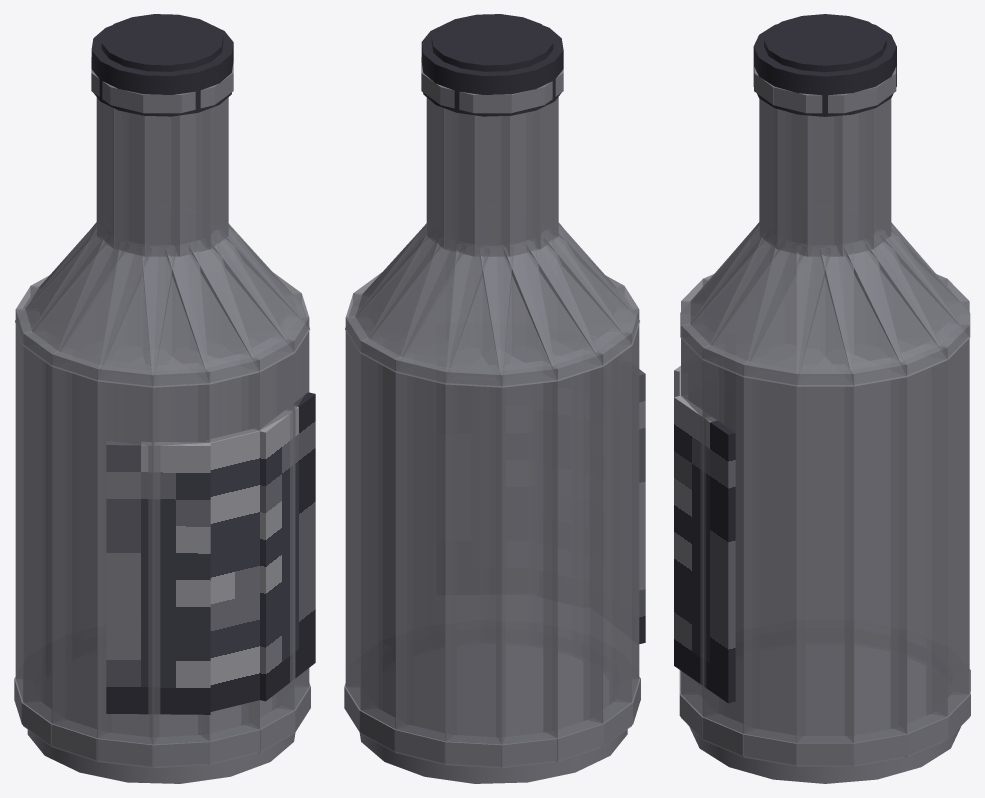
Rendered from CMU3DDrinkBottleWhiskeyDrinksExtraCloud.glb.
3 views of the same model, side by side, from view 1: azimuth 30°, elevation 25°; view 2: azimuth 150°, elevation 25°; view 3: azimuth 270°, elevation 25° (orthographic).
Parts seen in each view (by area): view 1: source front label tangent 0, continuous hollow body wall 09, continuous hollow body wall 08, source front label tangent 2, source front label tangent 1, continuous hollow body wall 07, continuous hollow body wall 10, continuous hollow body wall 11, thick bottle heel, smooth tapered shoulder sector 12, smooth tapered shoulder sector 10, smooth tapered shoulder sector 9 (+31 smaller); view 2: continuous hollow body wall 06, continuous hollow body wall 04, continuous hollow body wall 05, continuous hollow body wall 07, continuous hollow body wall 03, continuous hollow body wall 08, thick bottle heel, continuous hollow body wall 02, continuous hollow body wall 09, smooth tapered shoulder sector 4, smooth tapered shoulder sector 6, smooth tapered shoulder sector 7 (+29 smaller); view 3: continuous hollow body wall 01, continuous hollow body wall 15, continuous hollow body wall 00, continuous hollow body wall 02, source front label tangent 2, continuous hollow body wall 03, thick bottle heel, continuous hollow body wall 14, smooth tapered shoulder sector 1, smooth tapered shoulder sector 15, smooth tapered shoulder sector 14, smooth tapered shoulder sector 2 (+29 smaller).
Boxes of the visible parts, x1,y1,x2,y2 form: source front label tangent 0: [106, 441, 210, 714]; continuous hollow body wall 09: [51, 349, 111, 761]; continuous hollow body wall 08: [23, 331, 71, 746]; source front label tangent 2: [260, 392, 315, 701]; source front label tangent 1: [205, 429, 260, 711]; continuous hollow body wall 07: [16, 308, 45, 704]; continuous hollow body wall 10: [97, 361, 158, 768]; continuous hollow body wall 11: [150, 363, 210, 768]; thick bottle heel: [27, 653, 295, 783]; smooth tapered shoulder sector 12: [165, 236, 259, 384]; smooth tapered shoulder sector 10: [97, 242, 175, 387]; smooth tapered shoulder sector 9: [51, 233, 151, 381]; continuous hollow body wall 06: [496, 361, 557, 768]; continuous hollow body wall 04: [395, 354, 456, 764]; continuous hollow body wall 05: [445, 363, 505, 768]; continuous hollow body wall 07: [543, 349, 603, 761]; continuous hollow body wall 03: [360, 338, 413, 752]; continuous hollow body wall 08: [583, 331, 631, 746]; thick bottle heel: [359, 644, 627, 783]; continuous hollow body wall 02: [346, 316, 382, 733]; continuous hollow body wall 09: [609, 308, 639, 726]; smooth tapered shoulder sector 4: [395, 236, 489, 384]; smooth tapered shoulder sector 6: [479, 242, 557, 387]; smooth tapered shoulder sector 7: [504, 233, 603, 381]; continuous hollow body wall 01: [845, 358, 907, 766]; continuous hollow body wall 15: [743, 358, 805, 766]; continuous hollow body wall 00: [796, 364, 854, 766]; continuous hollow body wall 02: [891, 344, 947, 757]; source front label tangent 2: [674, 395, 735, 703]; continuous hollow body wall 03: [926, 323, 969, 740]; thick bottle heel: [689, 645, 960, 783]; continuous hollow body wall 14: [702, 344, 759, 757]; smooth tapered shoulder sector 1: [820, 241, 906, 386]; smooth tapered shoulder sector 15: [743, 241, 830, 386]; smooth tapered shoulder sector 14: [702, 230, 805, 376]; smooth tapered shoulder sector 2: [844, 230, 947, 376].
Size of the model in its own units: 0.3074 by 0.799 by 0.3132.
Materials: 7 (3 with a texture image).
